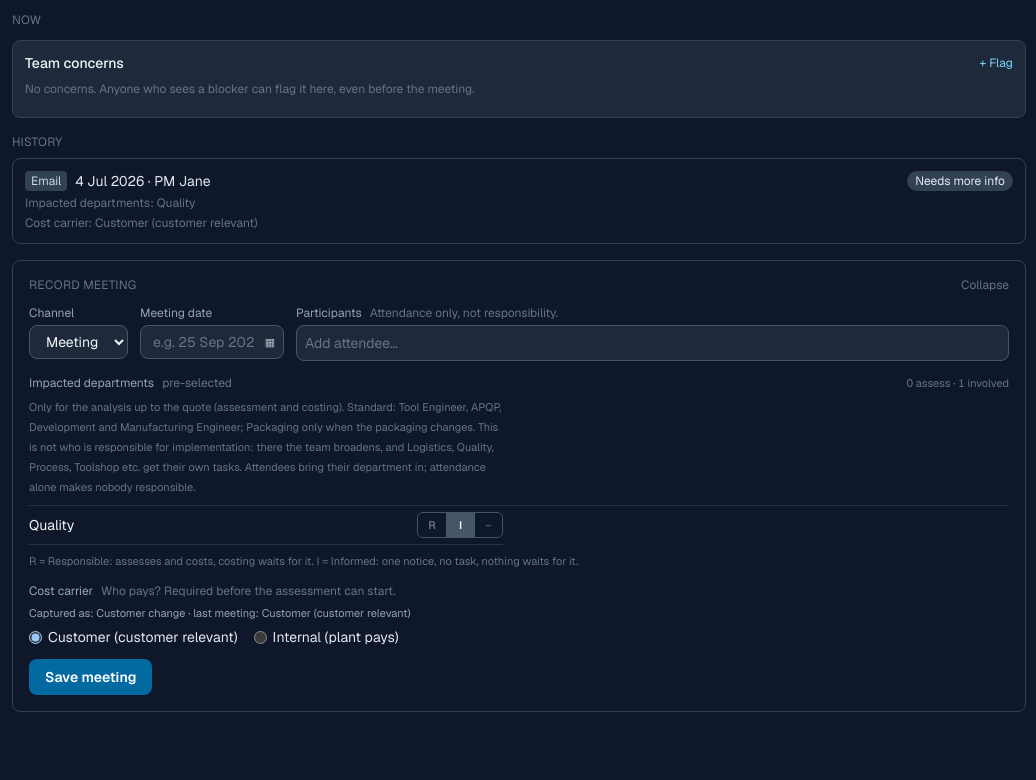
ScopingPanel › confirms the best-matching contact on Enter from a partial name
The image size is (1036, 780).
In the field with placeholder "Add attendee…": (652, 343) [305,333,1000,353], type "dana"
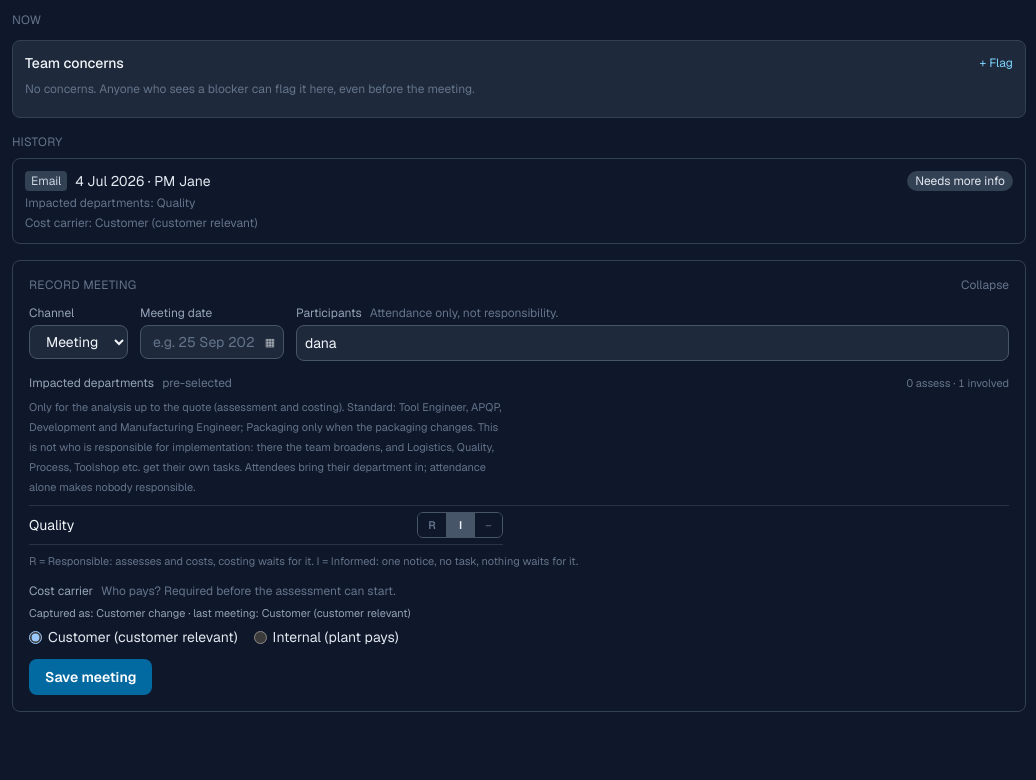
Press Enter in the field with placeholder "Add attendee…", box [305,333,1000,353]
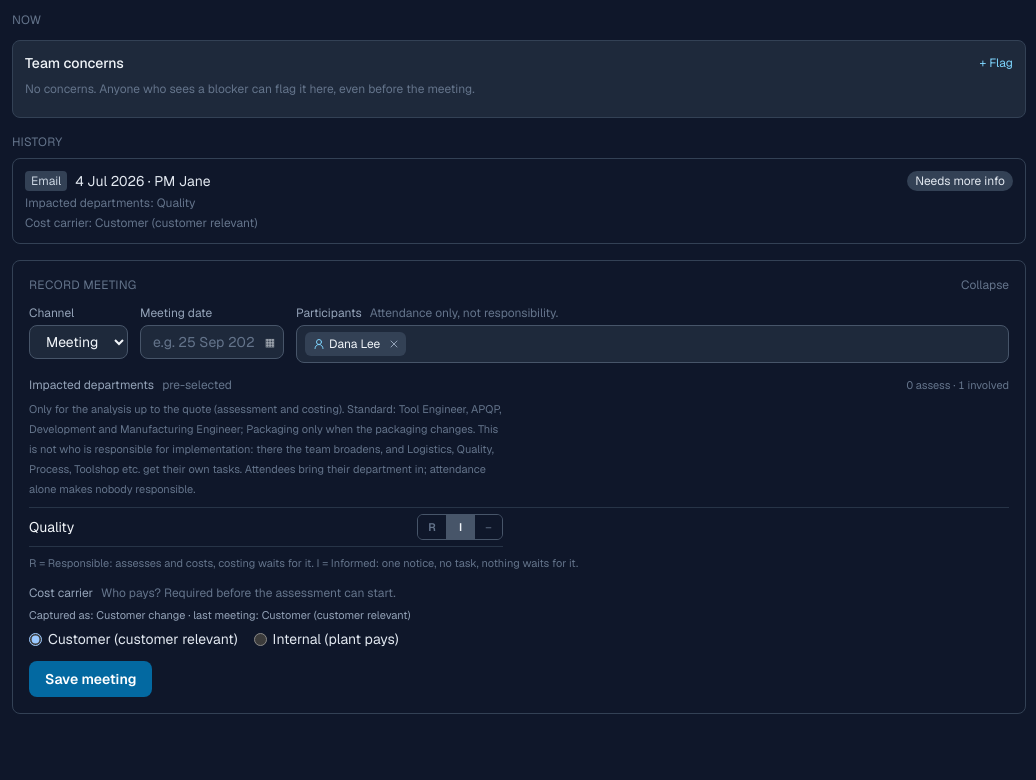
Expected: the button named "remove dana lee" is shown, [384,334,404,354]
